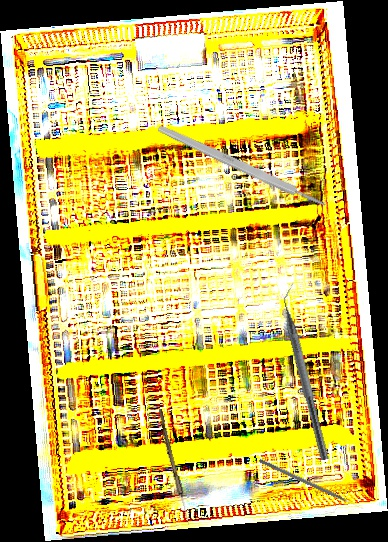Chopper: (274, 282, 341, 461)
Hook Surgical: (258, 458, 364, 511)
Scalpel Handle: (155, 122, 328, 211)
Surgical Spoon: (155, 408, 193, 526)
